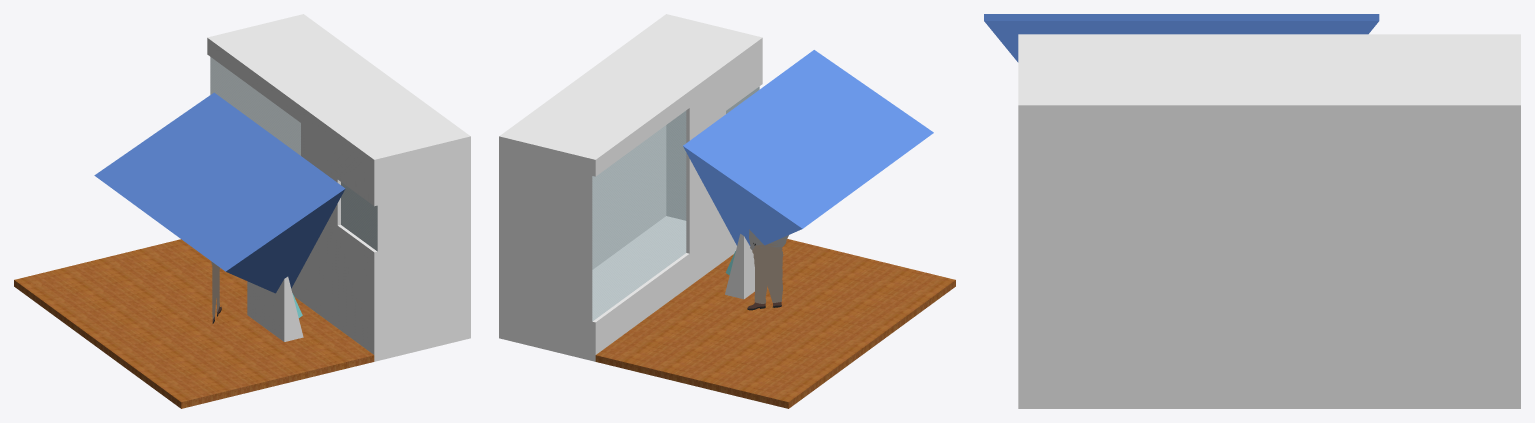
File: set2.obj
3 views of the same model, side by side, from view 1: azimuth 30°, elevation 25°; view 2: azimuth 150°, elevation 25°; view 3: azimuth 270°, elevation 25° (orthographic). The views are drawn at different scales.
Visible parts, largest first — view 1: Mesh15 Componente_9_1 Componente_13_1 Model, Mesh17 Componente_10_1 Componente_13_1 Model, Mesh3 Component_67_1 Component_66_1 Component_65_1 Group1 Compon, Mesh11 Componente_11_1 Group1 Componente_13_1 Model, Mesh13 Derrick1 Componente_13_1 Model; view 2: Mesh15 Componente_9_1 Componente_13_1 Model, Mesh17 Componente_10_1 Componente_13_1 Model, Mesh3 Component_67_1 Component_66_1 Component_65_1 Group1 Compon, Mesh13 Derrick1 Componente_13_1 Model, Mesh11 Componente_11_1 Group1 Componente_13_1 Model; view 3: Mesh15 Componente_9_1 Componente_13_1 Model, Mesh3 Component_67_1 Component_66_1 Component_65_1 Group1 Compon.
Boxes of the visible parts, <box> form: Mesh15 Componente_9_1 Componente_13_1 Model: <box>207,14,470,361</box>; Mesh17 Componente_10_1 Componente_13_1 Model: <box>14,239,374,408</box>; Mesh3 Component_67_1 Component_66_1 Component_65_1 Group1 Compon: <box>94,92,345,293</box>; Mesh11 Componente_11_1 Group1 Componente_13_1 Model: <box>247,276,303,341</box>; Mesh13 Derrick1 Componente_13_1 Model: <box>211,261,221,323</box>; Mesh15 Componente_9_1 Componente_13_1 Model: <box>499,14,762,361</box>; Mesh17 Componente_10_1 Componente_13_1 Model: <box>595,239,955,408</box>; Mesh3 Component_67_1 Component_66_1 Component_65_1 Group1 Compon: <box>683,50,933,245</box>; Mesh13 Derrick1 Componente_13_1 Model: <box>747,229,788,310</box>; Mesh11 Componente_11_1 Group1 Componente_13_1 Model: <box>725,234,754,299</box>; Mesh15 Componente_9_1 Componente_13_1 Model: <box>1018,34,1520,408</box>; Mesh3 Component_67_1 Component_66_1 Component_65_1 Group1 Compon: <box>984,14,1379,62</box>.
Size of the model in its own units: 4500 by 3000 by 4806.
